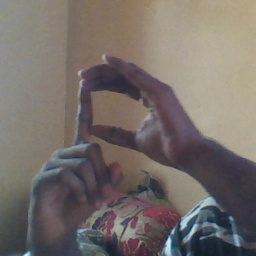P: (39, 50, 175, 205)
